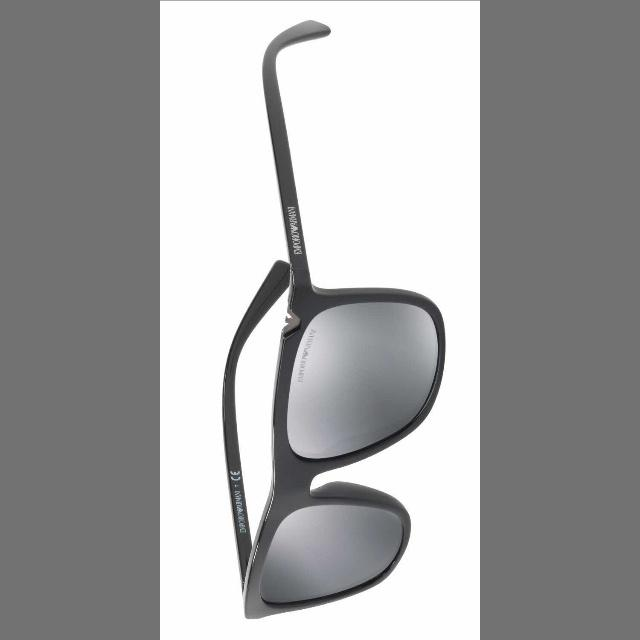Sunglasses: (176, 15, 479, 632)
